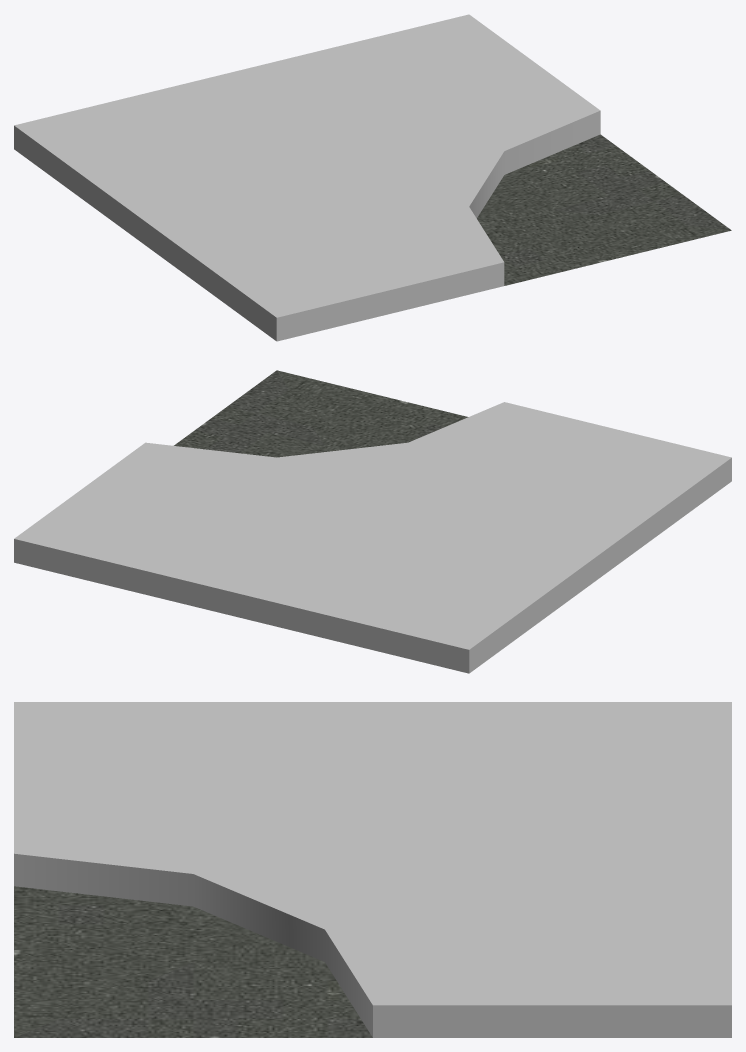
The model's file is roadAsphalt_cornerInner.fbx.
3 renders of one model, top to bottom at view 1: azimuth 30°, elevation 25°; view 2: azimuth 150°, elevation 25°; view 3: azimuth 270°, elevation 25°, orthographic. The views are drawn at different scales.
Parts seen in each view (by area): view 1: roadAsphalt_cornerInner; view 2: roadAsphalt_cornerInner; view 3: roadAsphalt_cornerInner.
Boxes of the visible parts, x1=… form: roadAsphalt_cornerInner: x1=14, y1=14, x2=731, y2=341; roadAsphalt_cornerInner: x1=14, y1=370, x2=731, y2=673; roadAsphalt_cornerInner: x1=14, y1=702, x2=731, y2=1037.
Bounding box in the file's own units: 10 × 0.5 × 10.
